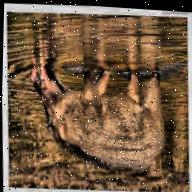boar: (23, 49, 169, 177)
